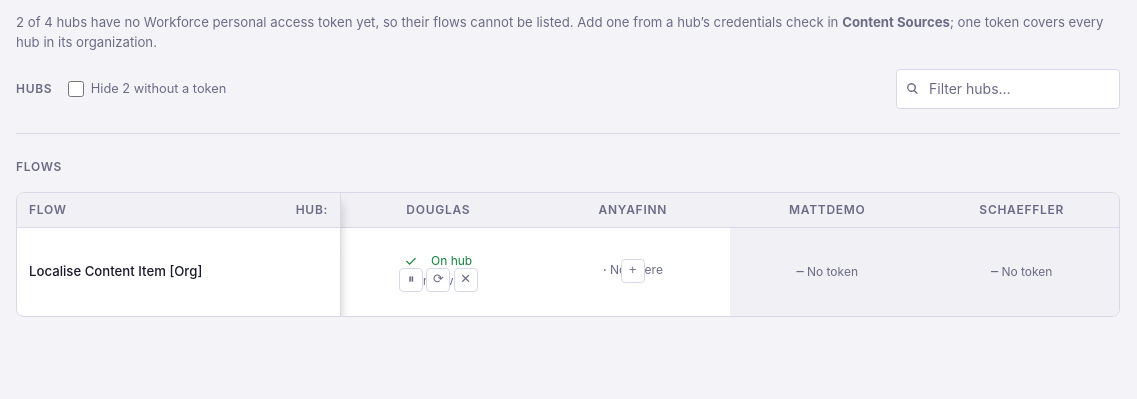
it: FlowsTab — narrowing the hub axis › warns when the filter has hidden the only hub a flow is on
Type "anyafinn" into the search field labelled "Filter hubs".
click(1008, 89); type("anyafinn")  # box [896,69,1120,109]
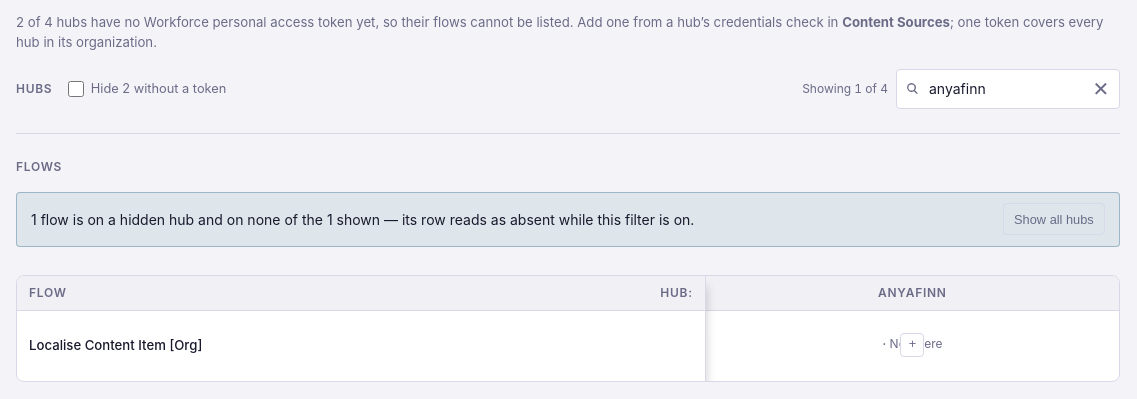
Result: the text "on a hidden hub and on none of the" is shown at [84,211,323,228]
